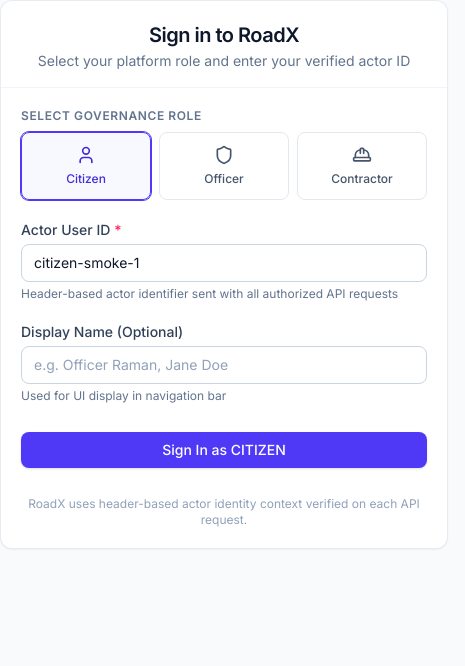
Test: LoginForm Component › displays API error alert when backend request fails
The width and height of the screenshot is (465, 666).
Click the button "Sign In as CITIZEN".
click(224, 450)  # box [21, 432, 427, 468]
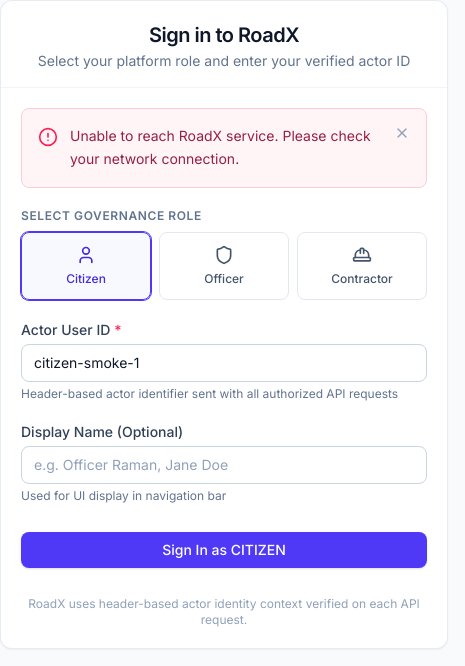
expect the message "Unable to reach RoadX service. Please check your network connection." is shown: met, box [21, 108, 427, 188]
expect the text "Unable to reach RoadX service" is shown: met, box [70, 127, 371, 167]
